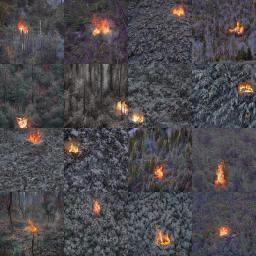Small fire: (15, 113, 44, 150), (88, 12, 110, 40), (212, 160, 230, 191), (21, 215, 41, 235), (154, 230, 174, 246), (226, 20, 245, 36), (92, 198, 106, 219), (112, 100, 129, 117), (172, 1, 188, 19), (238, 80, 255, 96), (16, 20, 34, 35), (65, 142, 81, 157), (131, 110, 149, 123), (153, 166, 167, 181), (217, 225, 230, 240)
